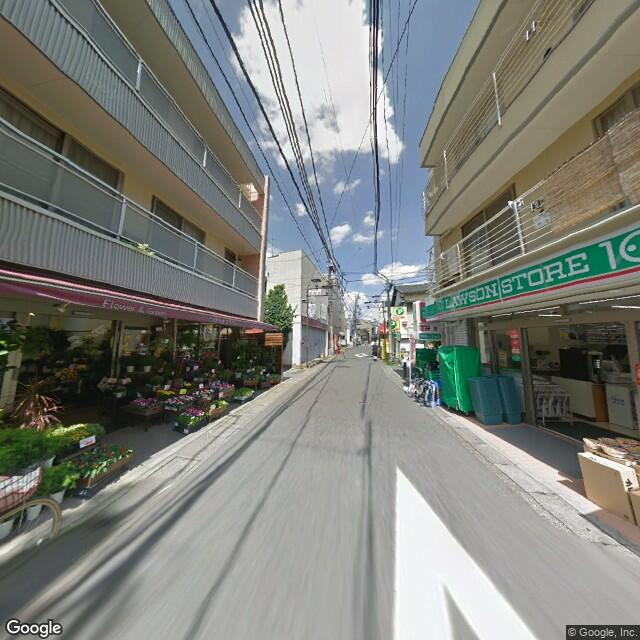lawson: (428, 221, 639, 321)
